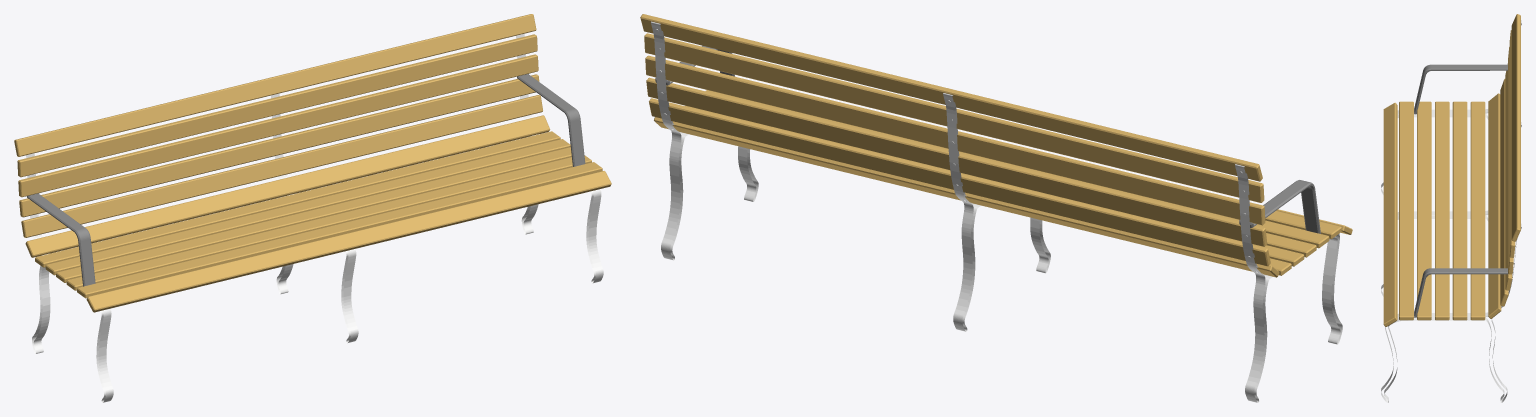
The model's file is Park Bench.gltf.
The picture shows the model from 3 angles, left to right: view 1: azimuth 30°, elevation 25°; view 2: azimuth 150°, elevation 25°; view 3: azimuth 270°, elevation 25°; orthographic projection. The views are drawn at different scales.
Parts seen in each view (by area): view 1: node-0; view 2: node-0; view 3: node-0.
Part boxes in pixels (x1=…): node-0: x1=14, y1=14, x2=611, y2=402; node-0: x1=640, y1=14, x2=1352, y2=402; node-0: x1=1381, y1=14, x2=1521, y2=402.
Bounding box in the file's own units: 356 × 138 × 98.28.
